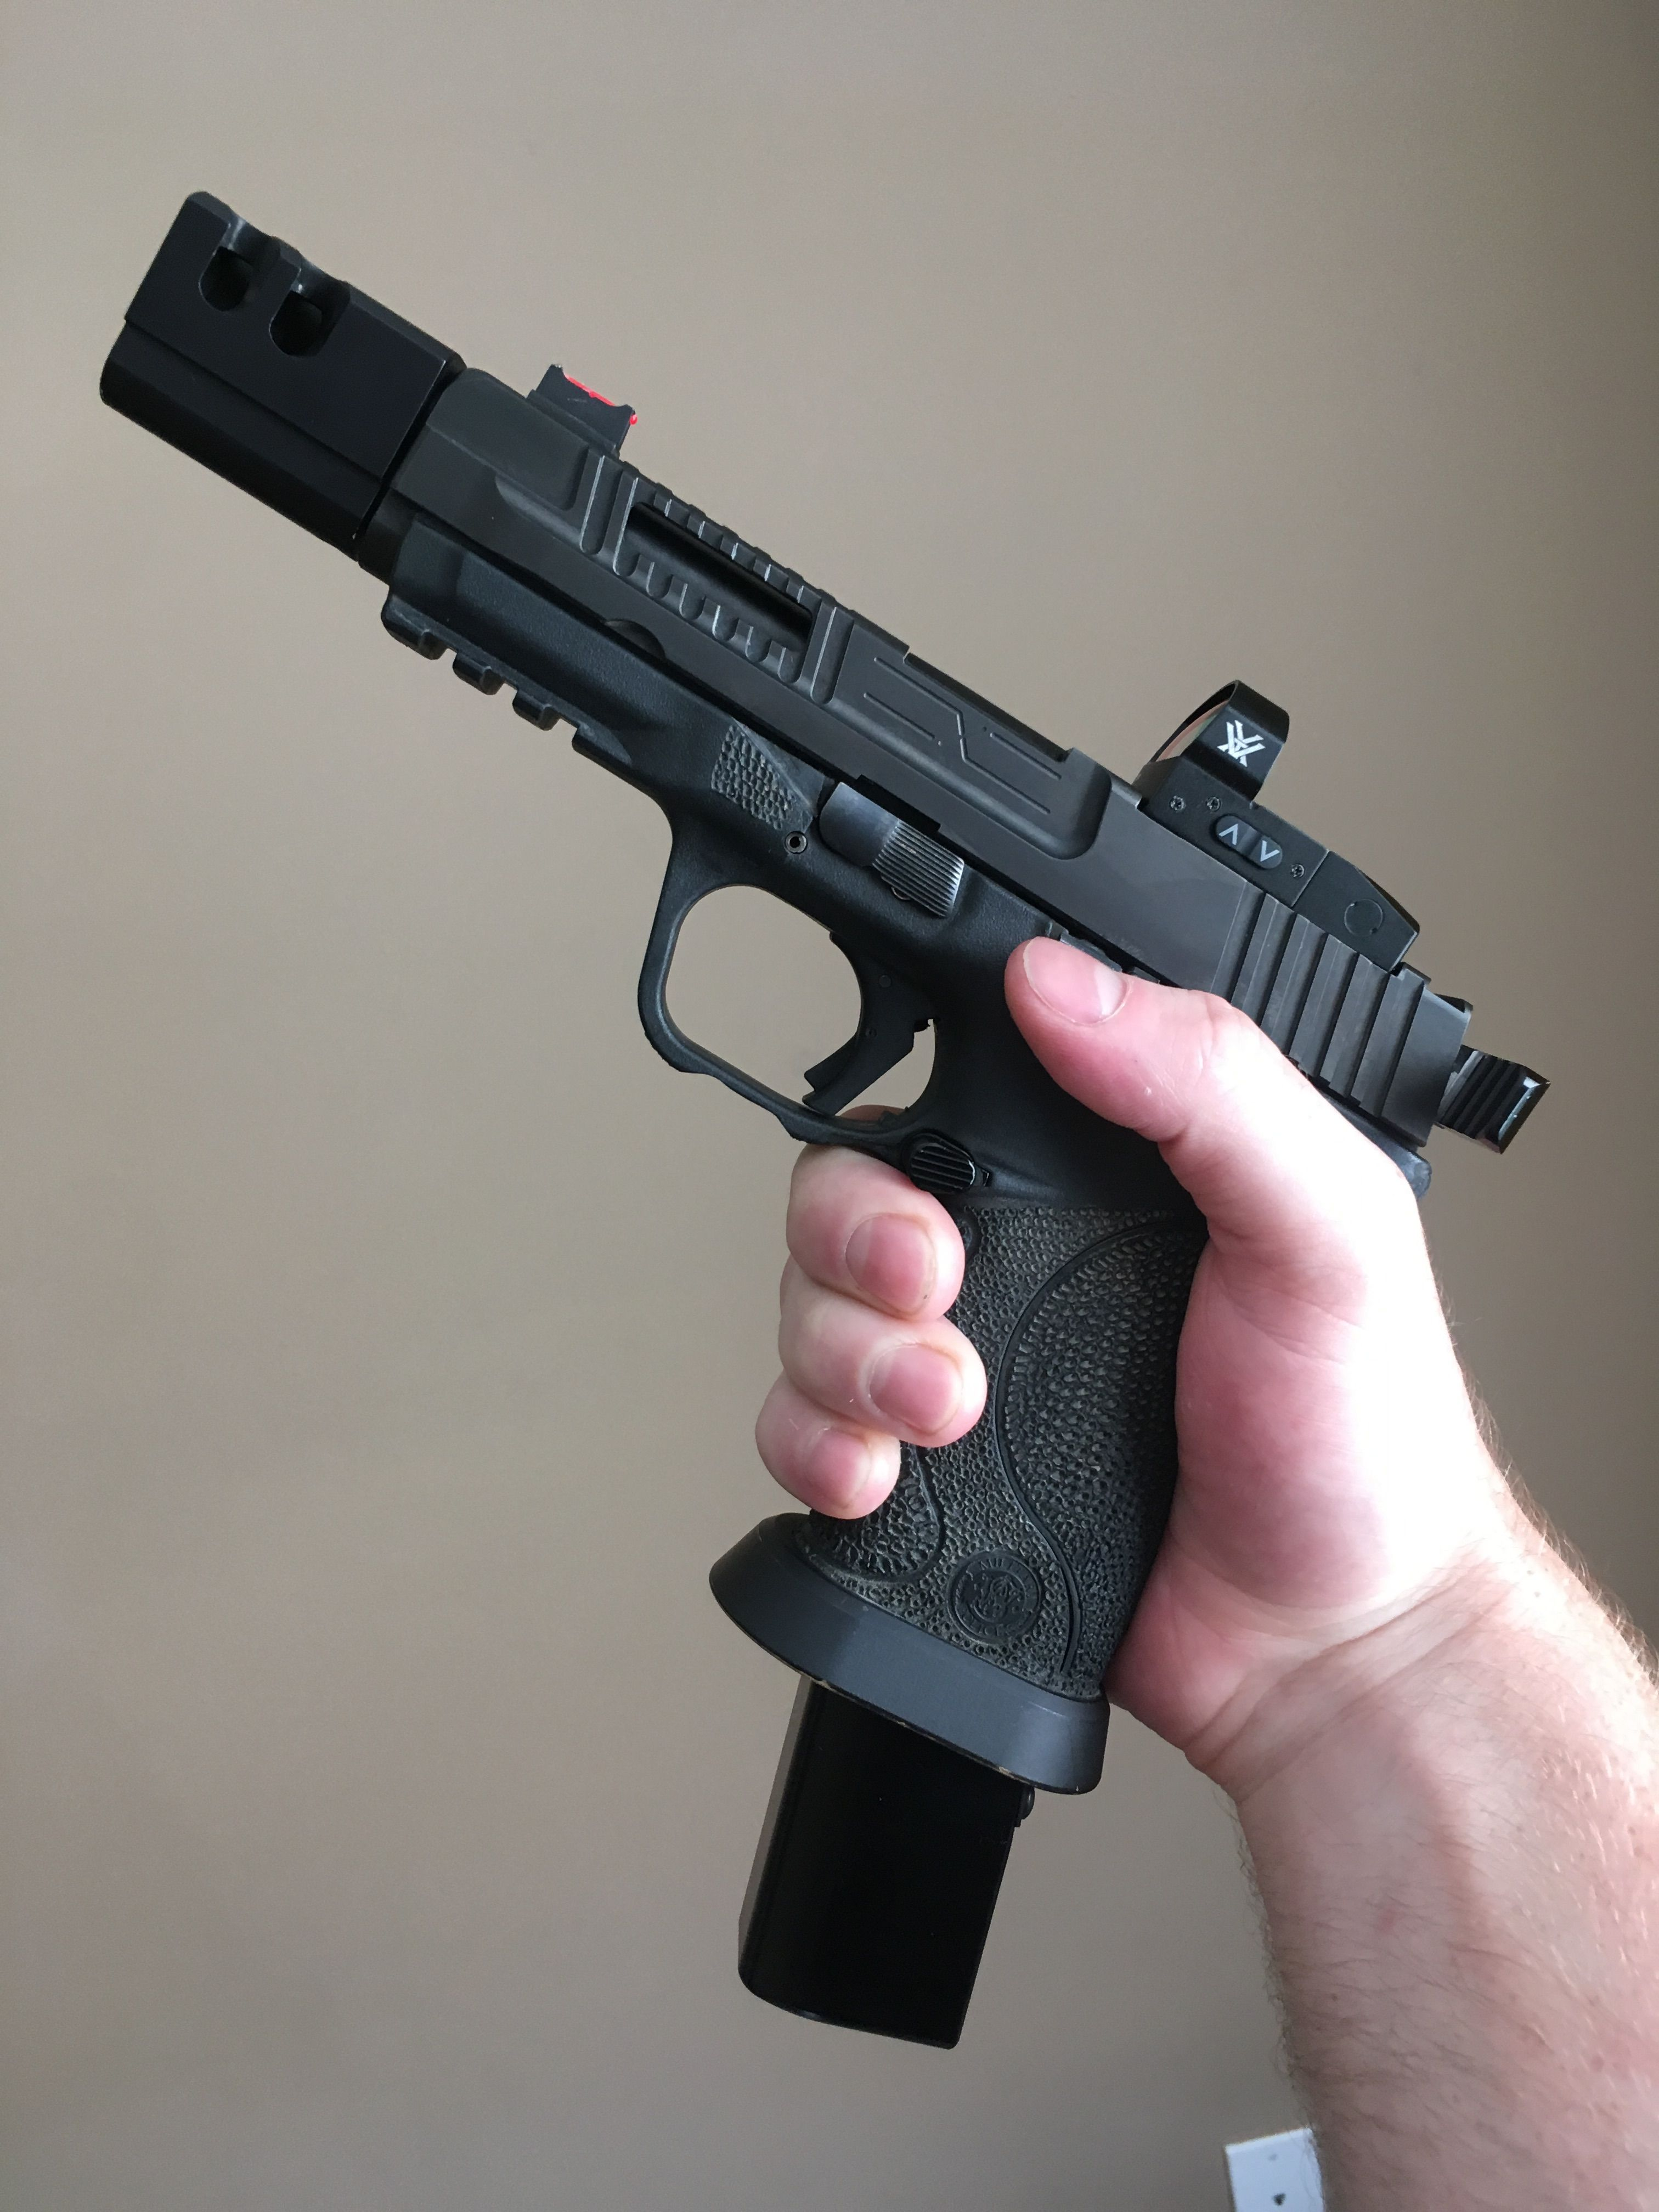gun: (91, 172, 1568, 2062)
